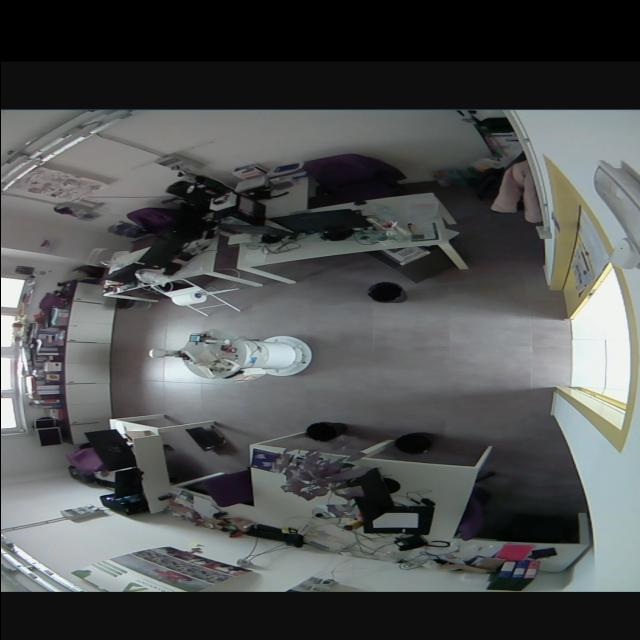Open: (560, 286, 624, 388)
